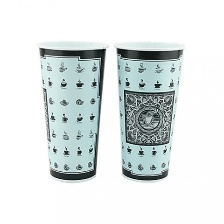paper_cup: (30, 33, 111, 186), (111, 33, 188, 186)
